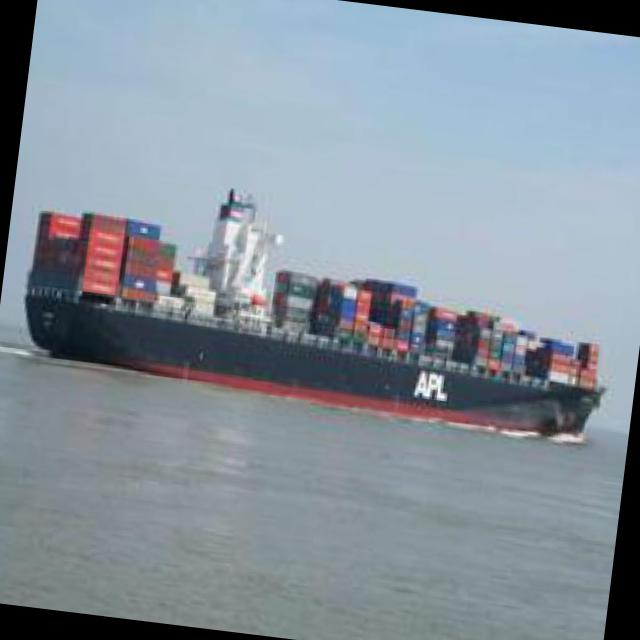boat: (2, 180, 624, 456)
